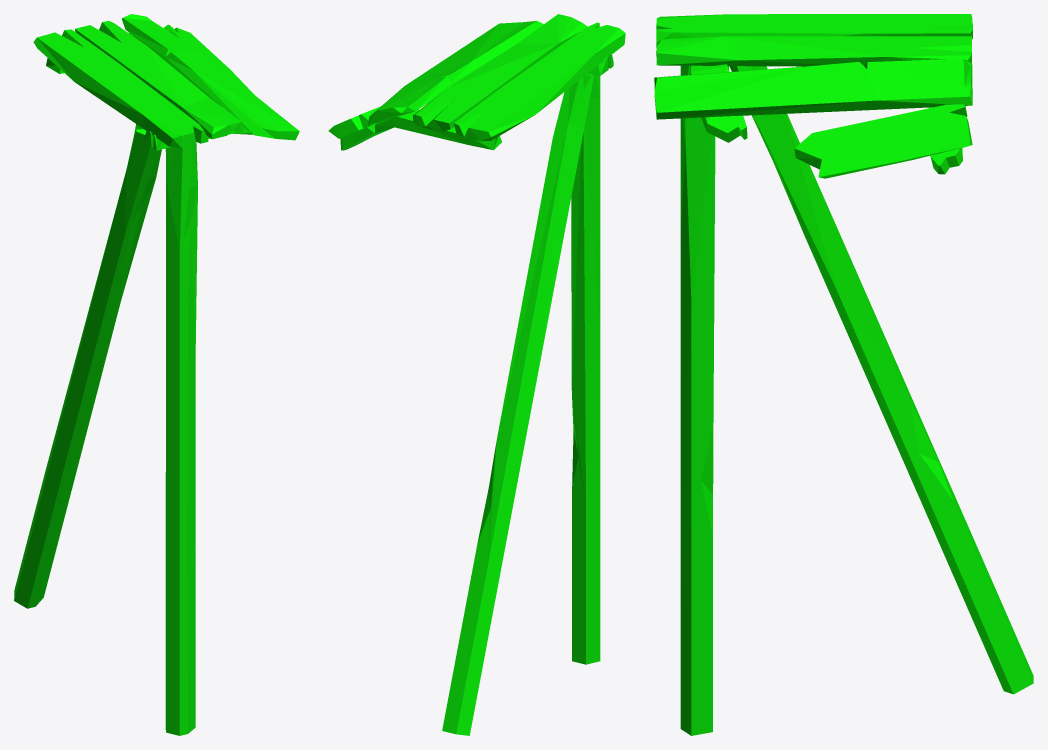
File: SM_Palisade_Gallery_Broken_End_A.fbx
The picture shows the model from 3 angles, left to right: view 1: azimuth 30°, elevation 25°; view 2: azimuth 150°, elevation 25°; view 3: azimuth 270°, elevation 25°; orthographic projection. The views are drawn at different scales.
Parts seen in each view (by area): view 1: palisade-gallery-broken-end-a; view 2: palisade-gallery-broken-end-a; view 3: palisade-gallery-broken-end-a.
Boxes of the visible parts, x1,y1,x2,y2 form: palisade-gallery-broken-end-a: (14, 14, 299, 735); palisade-gallery-broken-end-a: (328, 14, 625, 735); palisade-gallery-broken-end-a: (654, 14, 1033, 735).
Size of the model in its own units: 1.4 by 4.84 by 2.37.
